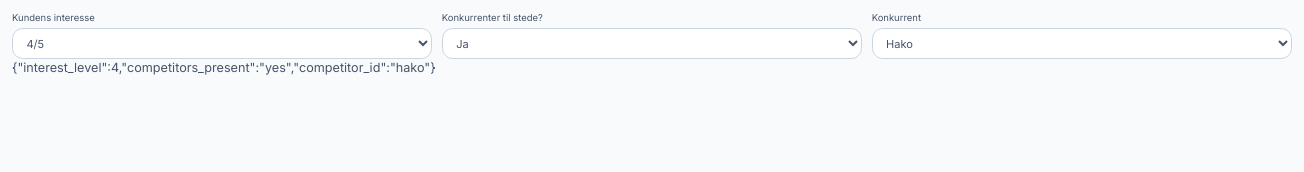
canonical demo competitor controls › keeps interest editable and clears the selected competitor when presence changes to no
This screenshot has width=1304, height=172.
Expected: the dropdown labelled "Konkurrent" shows "Hako", [872,28,1292,59]
Select "5/5" in the dropdown labelled "Kundens interesse" at (222, 44), box [12,28,432,59]
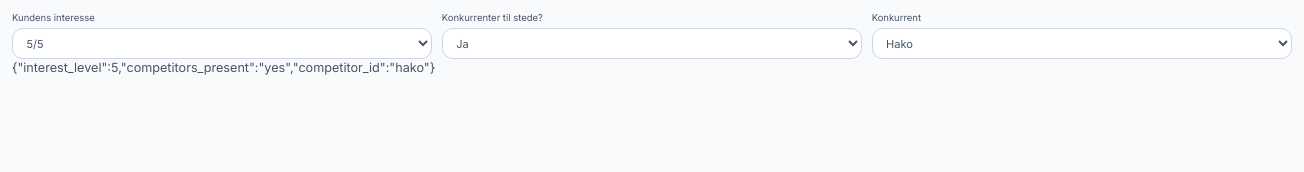
Select "Nej" in the dropdown labelled "Konkurrenter til stede?" at (652, 44), box [442,28,862,59]
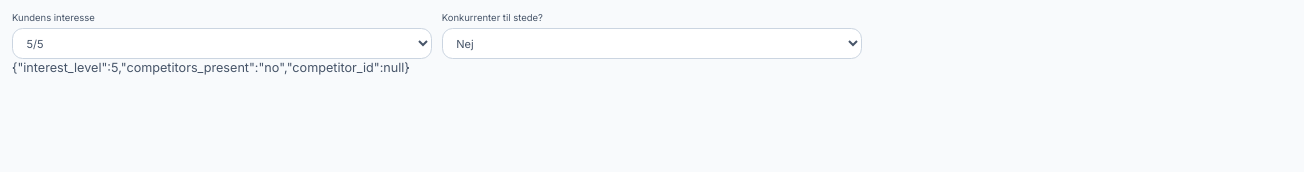
Result: the text "\"interest_level\":5" is shown at [12,60,410,75]
Result: the text "\"competitor_id\":null" is shown at [12,60,410,75]
Select "Ja" in the dropdown labelled "Konkurrenter til stede?" at (652, 44), box [442,28,862,59]
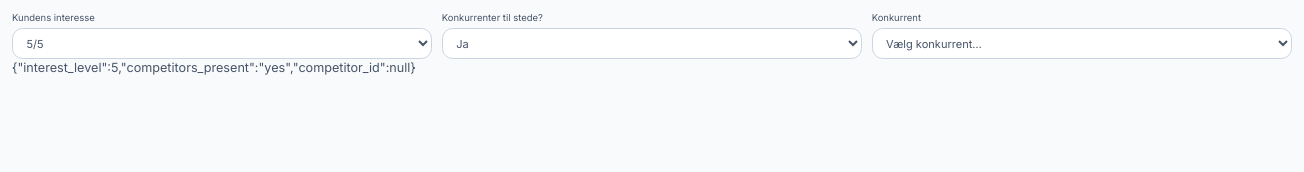
Result: the dropdown labelled "Konkurrent" shows "Vælg konkurrent…" at [872,28,1292,59]
